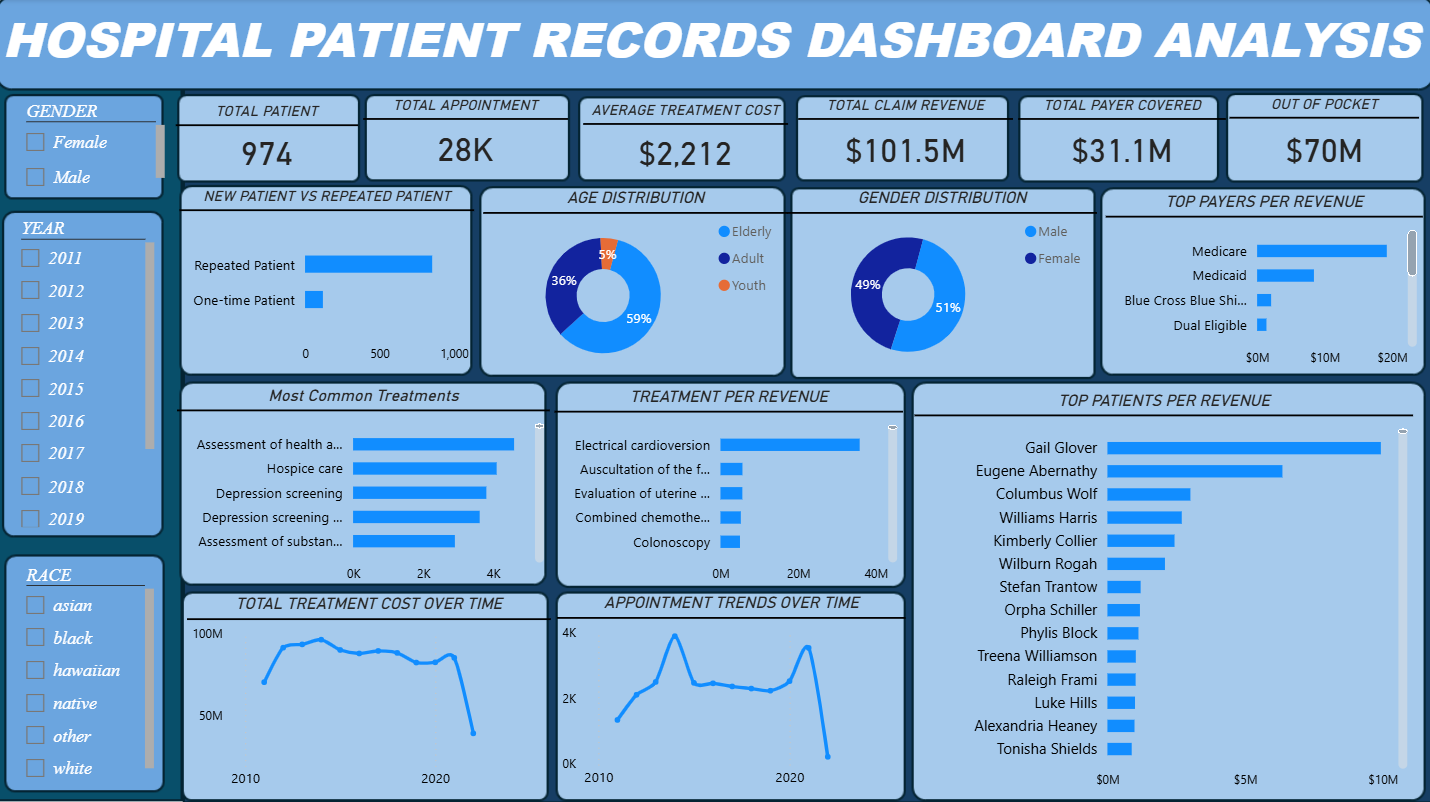

Layout of this report page (visuals, bound fields, positions):
{"tool":"powerbi","page":{"name":"Page 2","canvas":[1280,720],"ordinal":0},"visuals":[{"type":"card","title":"TOTAL PATIENT","fields":{"Values":["DAX Calculation.Total Patient Overtime"]},"box":[159.5,92,162,67.5],"z":0},{"type":"donutChart","title":"AGE DISTRIBUTION","fields":{"Category":["patients_table.AGE DISTRIBUTION"],"Y":["DAX Calculation.Total Patients"]},"box":[433.1,168.1,271,171],"z":1000},{"type":"card","title":"TOTAL APPOINTMENT","fields":{"Values":["DAX Calculation.Total Appointment"]},"box":[326.4,87.1,182,72.4],"z":2000},{"type":"lineChart","title":"APPOINTMENT TRENDS OVER TIME","fields":{"Y":["DAX Calculation.Total Appointment"],"Category":["DateTable.Year"]},"box":[498.2,528.8,310.4,182.8],"z":3000},{"type":"clusteredBarChart","title":"TREATMENT PER REVENUE","fields":{"Category":["procedures_summary.DESCRIPTION"],"Y":["DAX Calculation.TOTAL TREATMENT COST"]},"box":[496.9,344.8,310.4,184.1],"z":4000},{"type":"textbox","box":[0,0,1279.8,78.5],"z":5000},{"type":"clusteredBarChart","title":"Most Common Treatments","fields":{"Category":["procedures_summary.DESCRIPTION"],"Y":["CountNonNull(procedures_summary.PATIENT)"]},"box":[160.7,343.6,332,185.3],"z":6000},{"type":"slicer","fields":{"Values":["patients_table.GENDER"]},"box":[13.5,85.9,141.1,90.8],"z":7000},{"type":"slicer","fields":{"Values":["patients_table.RACE"]},"box":[13.5,498.2,131.3,203.7],"z":8000},{"type":"lineChart","title":"TOTAL TREATMENT COST OVER TIME","fields":{"Category":["DateTable.Year"],"Y":["DAX Calculation.TOTAL TREATMENT COST"]},"box":[169.3,530.1,323.9,182.8],"z":9000},{"type":"card","title":"AVERAGE TREATMENT COST","fields":{"Values":["Avg(procedures_summary.AVERAGE TREATMENT COST)"]},"box":[522,91,182,69.9],"z":10000},{"type":"card","title":"TOTAL CLAIM REVENUE","fields":{"Values":["DAX Calculation.TOTAL CLAIM REVENUE"]},"box":[714,87,191,74.8],"z":11000},{"type":"card","title":"TOTAL PAYER COVERED","fields":{"Values":["DAX Calculation.TOTAL PAYER COVERED"]},"box":[910,87.1,185,74],"z":12000},{"type":"donutChart","title":"GENDER DISTRIBUTION","fields":{"Category":["patients_table.GENDER"],"Y":["DAX Calculation.Total Patients"]},"box":[703.1,168.1,276.1,169.3],"z":13000},{"type":"card","title":"OUT OF POCKET","fields":{"Values":["DAX Calculation.OUT OF POCKET"]},"box":[1098,85.9,169,76.1],"z":14000},{"type":"barChart","title":"TOP PAYERS PER REVENUE","fields":{"Category":["payers_summary.NAME"],"Y":["DAX Calculation.TOTAL PAYER COVERED"]},"box":[987.7,171.8,282.2,165.6],"z":15000},{"type":"barChart","title":"TOP PATIENTS PER REVENUE ","fields":{"Category":["patients_table.FULL_NAME"],"Y":["DAX Calculation.TOTAL CLAIM REVENUE"]},"box":[817.2,348.5,444.2,364.4],"z":16000},{"type":"slicer","fields":{"Values":["DateTable.Year"]},"box":[8.6,190.2,136.2,284.7],"z":18000},{"type":"barChart","title":"NEW PATIENT VS REPEATED PATIENT","fields":{"Category":["patients_table.Patient Type"],"Y":["CountNonNull(patients_table.Id)"]},"box":[162,168.1,262.6,165],"z":19000}]}

Visuals, with their boxes in screenshot pixels (x1, y1, x2, y2), scaled from the page's 1280x720 canvas onto the 1430x802 screenshot:
"TOTAL PATIENT" card: select_region(178, 102, 359, 178)
"AGE DISTRIBUTION" donutChart: select_region(484, 187, 787, 378)
"TOTAL APPOINTMENT" card: select_region(365, 97, 568, 178)
"APPOINTMENT TRENDS OVER TIME" lineChart: select_region(557, 589, 903, 793)
"TREATMENT PER REVENUE" clusteredBarChart: select_region(555, 384, 902, 589)
textbox: select_region(0, 0, 1429, 87)
"Most Common Treatments" clusteredBarChart: select_region(180, 383, 550, 589)
slicer - patients_table.GENDER: select_region(15, 96, 173, 197)
slicer - patients_table.RACE: select_region(15, 555, 162, 782)
"TOTAL TREATMENT COST OVER TIME" lineChart: select_region(189, 590, 551, 794)
"AVERAGE TREATMENT COST" card: select_region(583, 101, 786, 179)
"TOTAL CLAIM REVENUE" card: select_region(798, 97, 1011, 180)
"TOTAL PAYER COVERED" card: select_region(1017, 97, 1223, 179)
"GENDER DISTRIBUTION" donutChart: select_region(785, 187, 1094, 376)
"OUT OF POCKET" card: select_region(1227, 96, 1415, 180)
"TOP PAYERS PER REVENUE" barChart: select_region(1103, 191, 1419, 376)
"TOP PATIENTS PER REVENUE " barChart: select_region(913, 388, 1409, 794)
slicer - DateTable.Year: select_region(10, 212, 162, 529)
"NEW PATIENT VS REPEATED PATIENT" barChart: select_region(181, 187, 474, 371)
